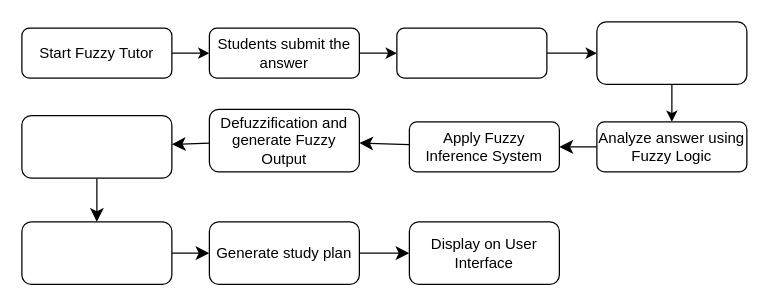
Image size: 769x306. Some labels were removed from this diagram. The centre of each missing label's shape, as x and y in pixels:
Extract linguistic variables from Answer: (x=671, y=52)
Generate Accuracy, revelance, and Clarity: (x=96, y=146)
Generate feedback based on Fuzzy Analysis: (x=96, y=252)
Process Student Answer: (x=471, y=52)
